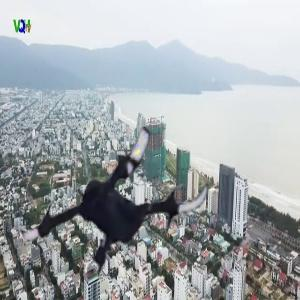drone: (15, 95, 215, 295)
